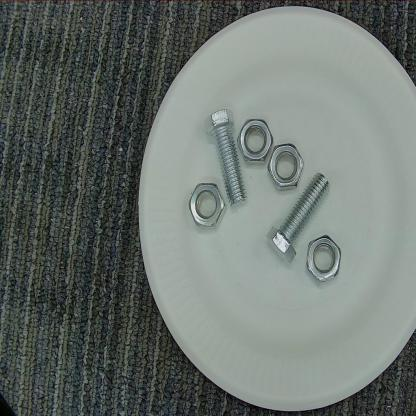FOD: (265, 169, 331, 269), (202, 102, 249, 214), (303, 232, 344, 289), (188, 182, 227, 233), (265, 142, 304, 191), (237, 115, 272, 165)
